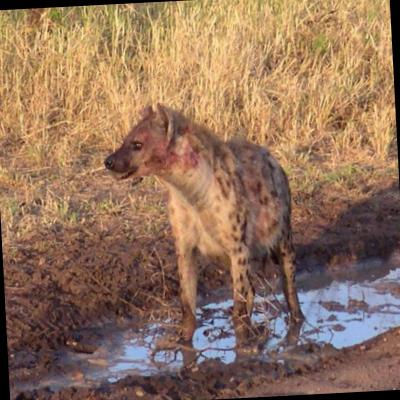hyenas: (92, 73, 351, 380)
